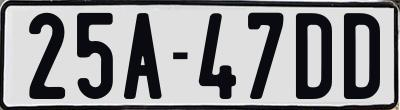2: (29, 13, 65, 104)
4: (197, 11, 239, 97)
5: (74, 11, 115, 101)
7: (245, 10, 286, 102)
A: (123, 12, 163, 104)
D: (341, 11, 383, 97), (296, 10, 335, 101)
